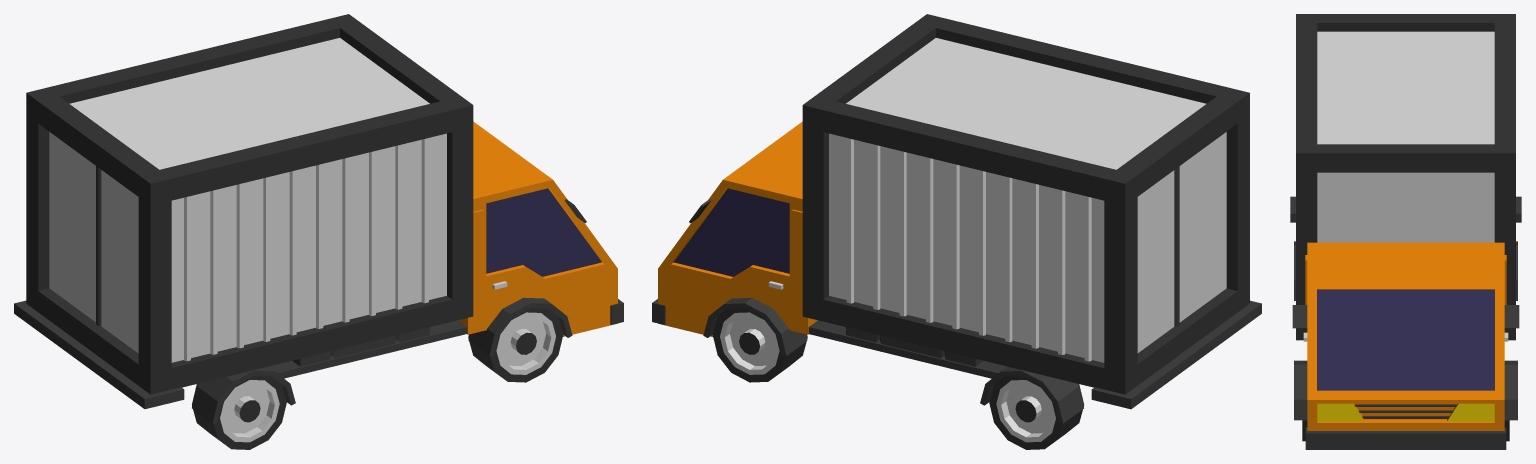
The model's file is truck_vehicle.fbx.
3 renders of one model, left to right at view 1: azimuth 30°, elevation 25°; view 2: azimuth 150°, elevation 25°; view 3: azimuth 270°, elevation 25°, orthographic. The views are drawn at different scales.
Visible parts, largest first — view 1: main_body, cockpit, polySurface21, polySurface1, wheel9, polySurface22, polySurface6; view 2: main_body, cockpit, polySurface21, polySurface1, wheel9, polySurface22, polySurface10; view 3: main_body, cockpit, polySurface1, polySurface4, polySurface7, polySurface9.
Part boxes in pixels (<box>): main_body: <box>26,14,473,394</box>; cockpit: <box>458,121,617,336</box>; polySurface21: <box>184,138,428,361</box>; polySurface1: <box>14,297,623,423</box>; wheel9: <box>192,308,563,449</box>; polySurface22: <box>96,166,101,326</box>; polySurface6: <box>473,209,484,276</box>; main_body: <box>802,14,1249,394</box>; cockpit: <box>658,121,817,336</box>; polySurface21: <box>846,138,1091,361</box>; polySurface1: <box>652,297,1261,423</box>; wheel9: <box>712,308,1084,449</box>; polySurface22: <box>1174,166,1179,326</box>; polySurface10: <box>791,209,802,276</box>; main_body: <box>1296,14,1515,340</box>; cockpit: <box>1307,242,1504,430</box>; polySurface1: <box>1290,196,1521,449</box>; polySurface4: <box>1354,404,1457,418</box>; polySurface7: <box>1292,305,1307,328</box>; polySurface9: <box>1504,305,1519,328</box>.
Bounding box in the file's own units: 20.91 × 12.04 × 9.7.
